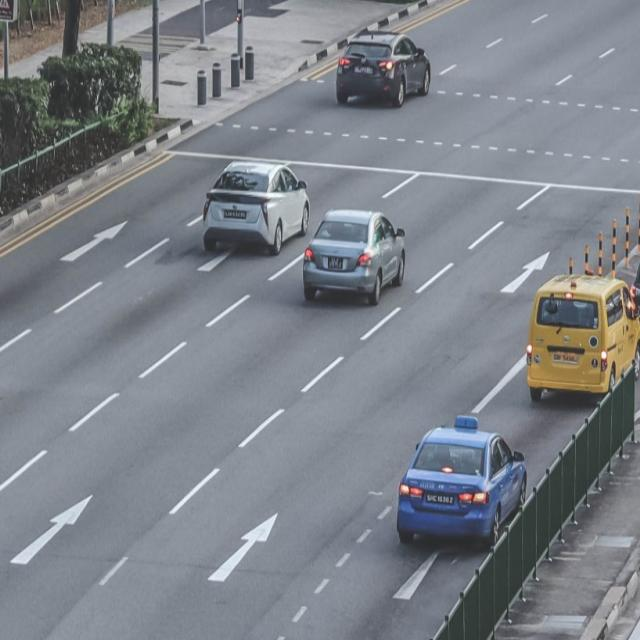car: (397, 422, 527, 543), (528, 272, 640, 403), (202, 158, 310, 258), (303, 208, 408, 306), (335, 30, 430, 110)
